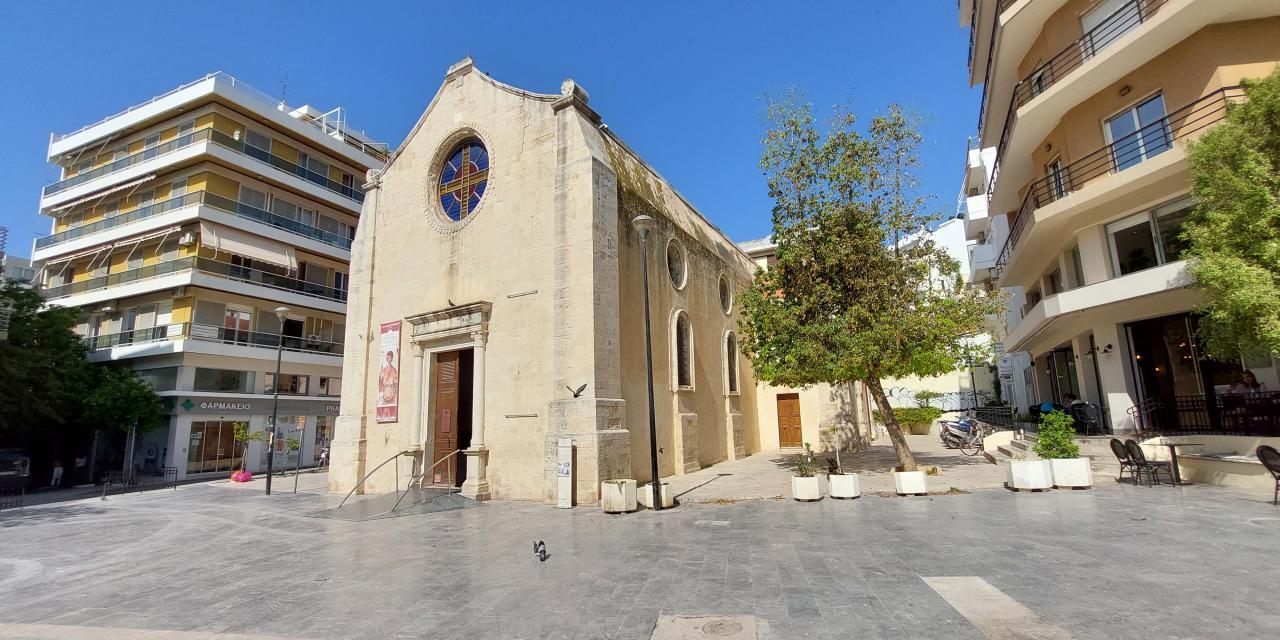Agia Aikaterini: (317, 51, 774, 505)
